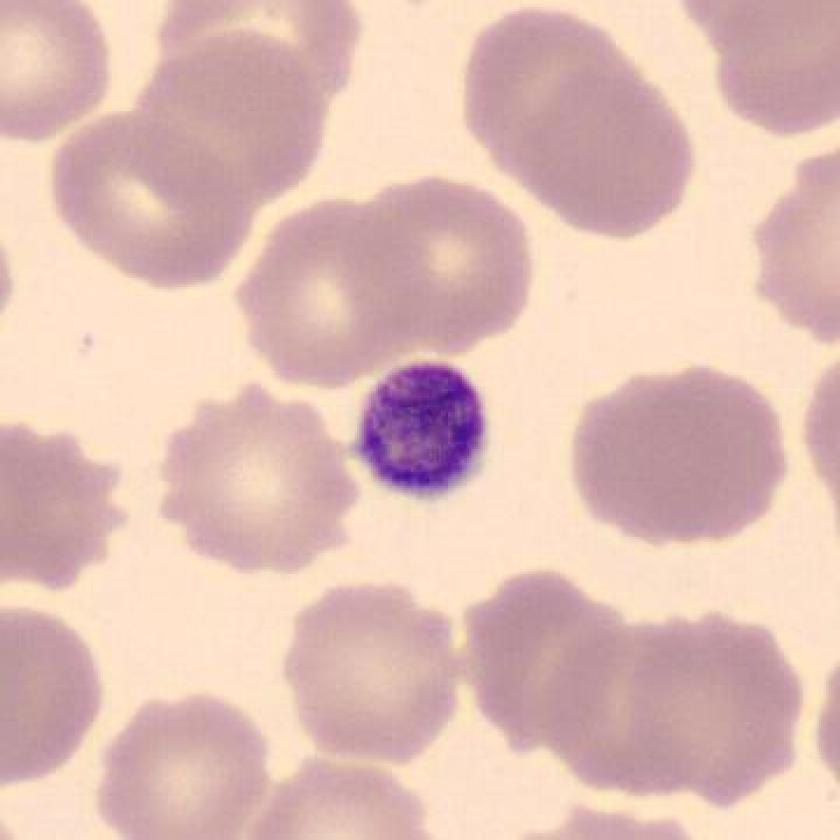platelets: (346, 351, 496, 510)
